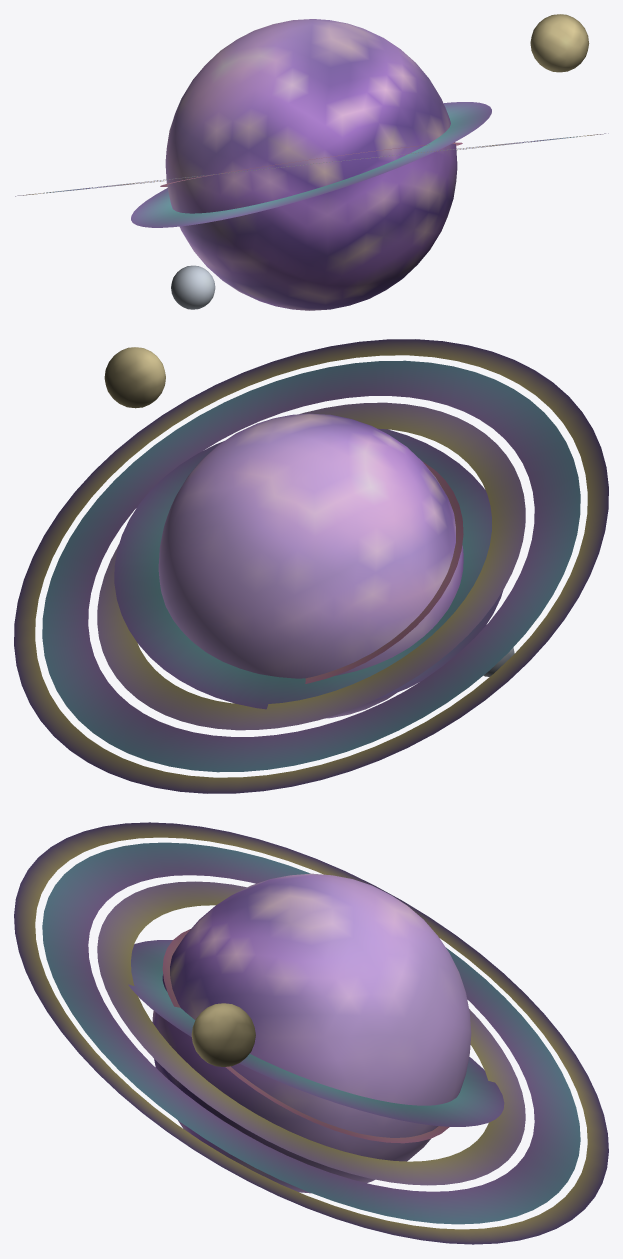
Rendered from distant_planets.glb.
The picture shows the model from 3 angles, top to bottom: view 1: azimuth 30°, elevation 25°; view 2: azimuth 150°, elevation 25°; view 3: azimuth 270°, elevation 25°; orthographic projection. The views are drawn at different scales.
Parts seen in each view (by area): view 1: PlanetAurelia, PlanetCelestia; view 2: PlanetAurelia, PlanetCelestia, PlanetSolis; view 3: PlanetAurelia, PlanetCelestia, PlanetSolis.
Part boxes in pixels (bbox=[...]): PlanetAurelia: bbox=[15, 14, 608, 310]; PlanetCelestia: bbox=[131, 102, 491, 309]; PlanetAurelia: bbox=[14, 339, 608, 793]; PlanetCelestia: bbox=[114, 428, 514, 709]; PlanetSolis: bbox=[305, 461, 463, 683]; PlanetAurelia: bbox=[14, 822, 608, 1244]; PlanetCelestia: bbox=[128, 940, 504, 1126]; PlanetSolis: bbox=[162, 929, 449, 1143].
Bounding box in the file's own units: 33.33 × 16.4 × 30.51.
